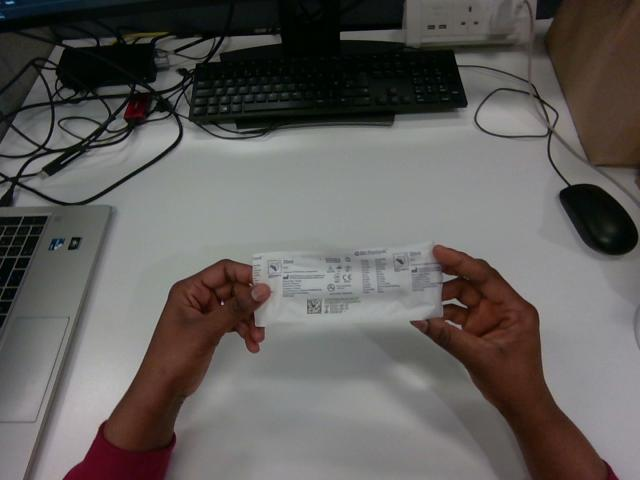syringe: (253, 242, 441, 326)
